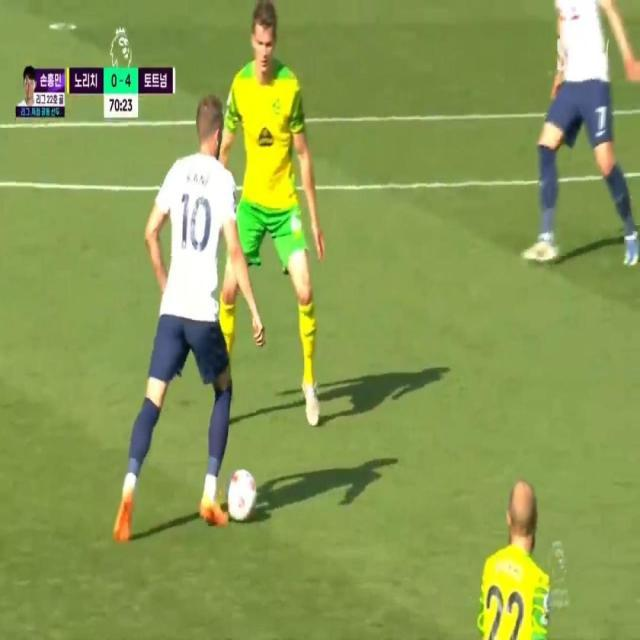ball: (226, 463, 268, 538)
player: (110, 91, 232, 541), (207, 0, 321, 430), (524, 0, 640, 265), (465, 462, 567, 640)
